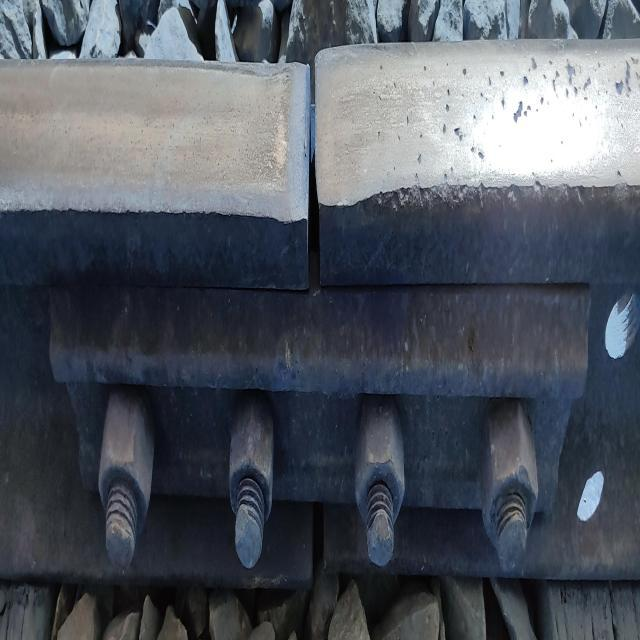Good Joint: (56, 289, 581, 584)
